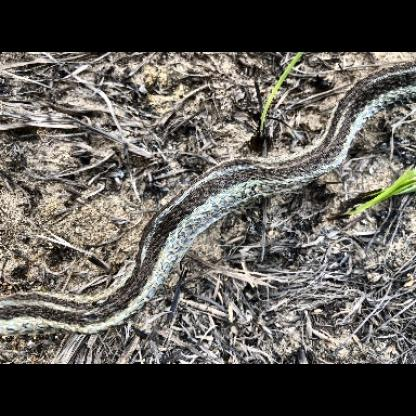Snake: (6, 69, 410, 332)
